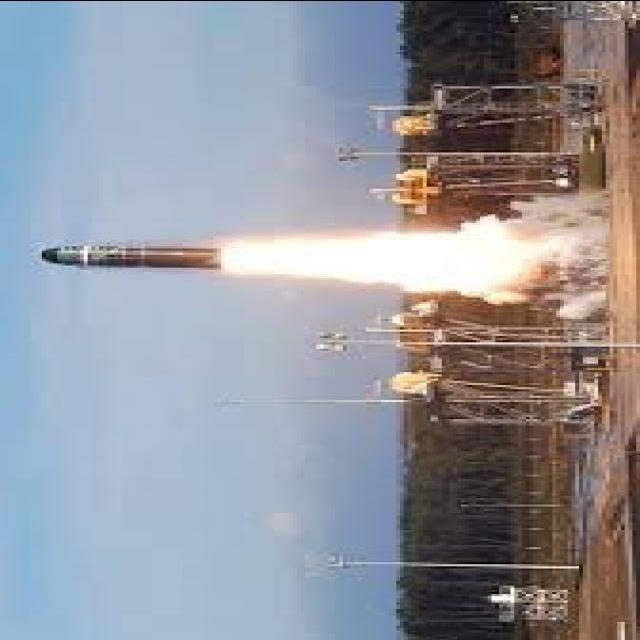missile: (25, 241, 245, 270)
